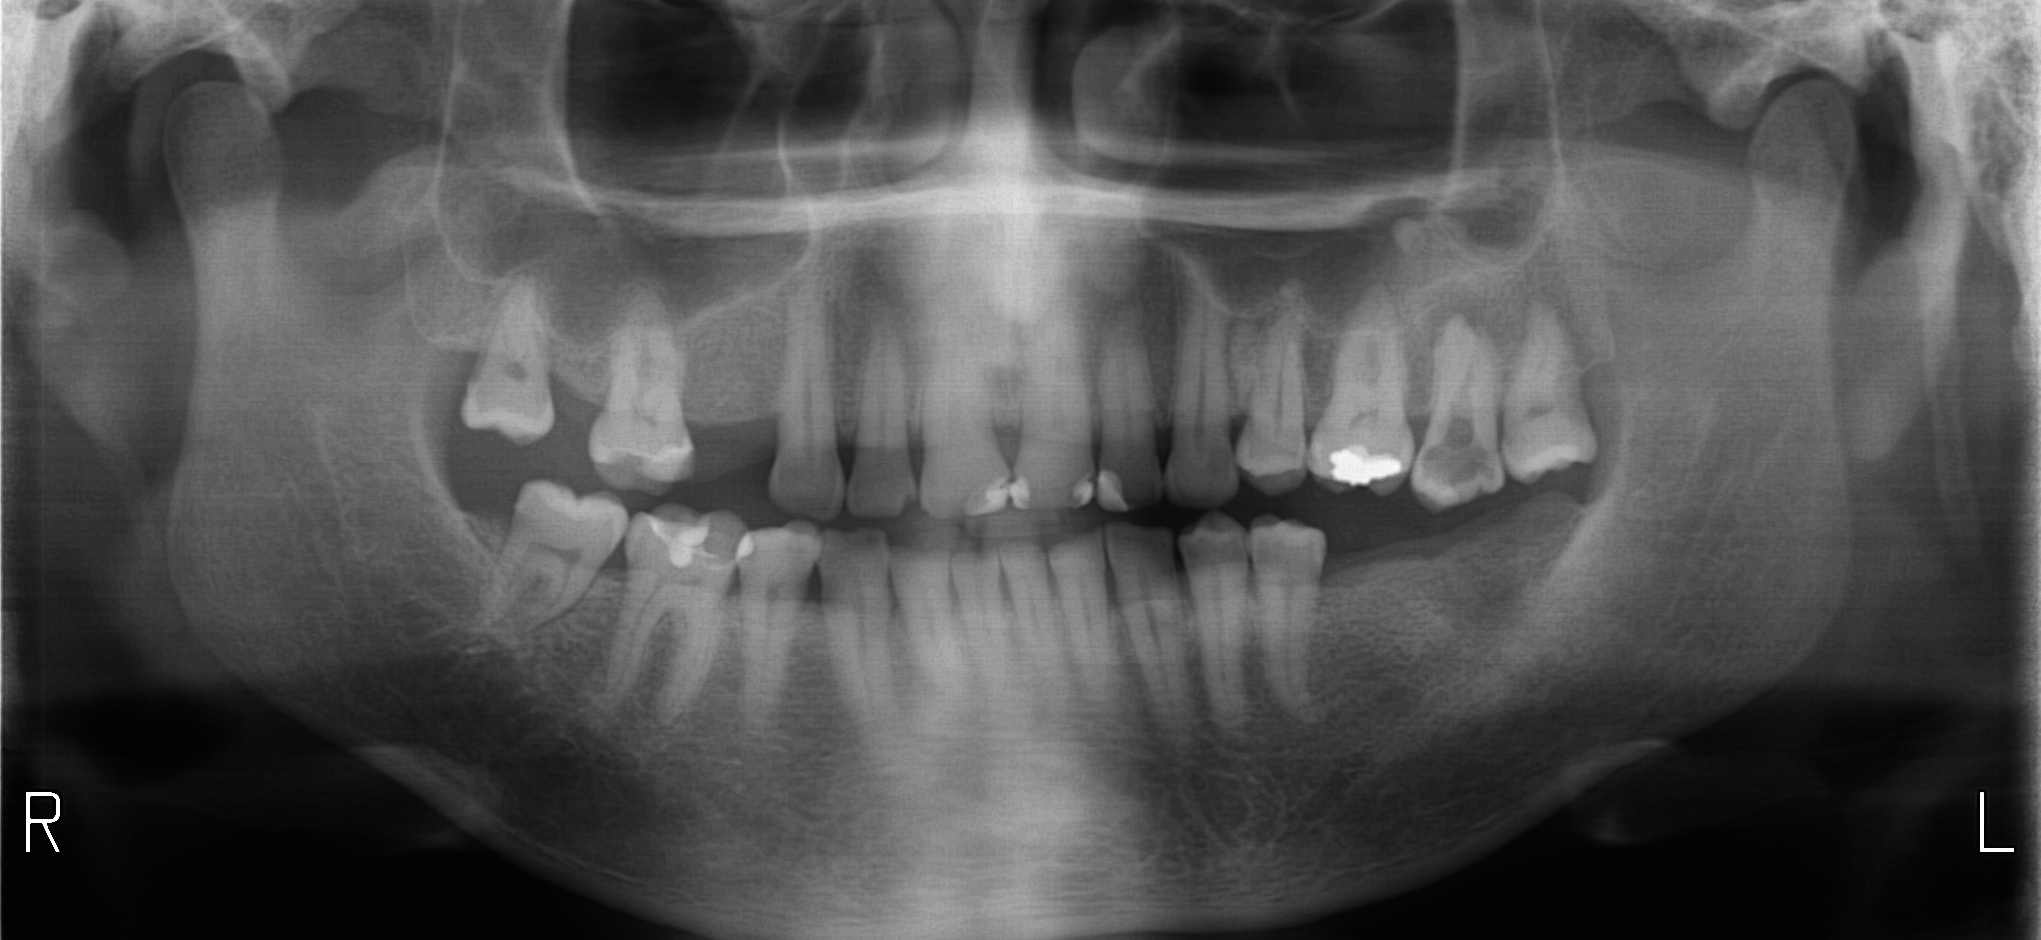cavity: (1425, 437, 1490, 474)
